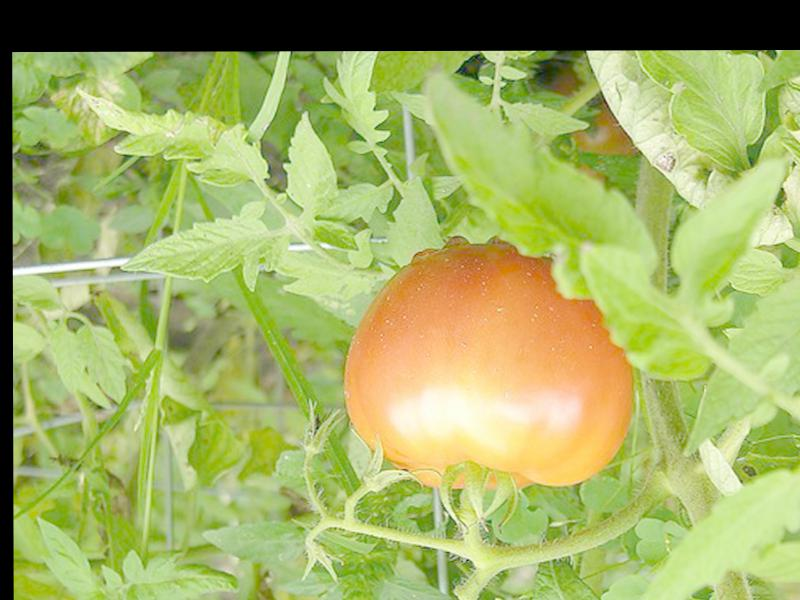Tomato: (346, 247, 632, 491)
